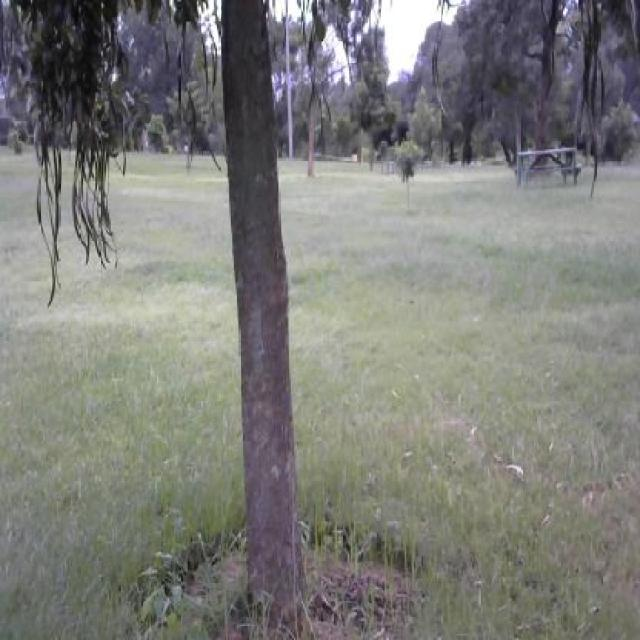tree trunk: (208, 20, 312, 615)
